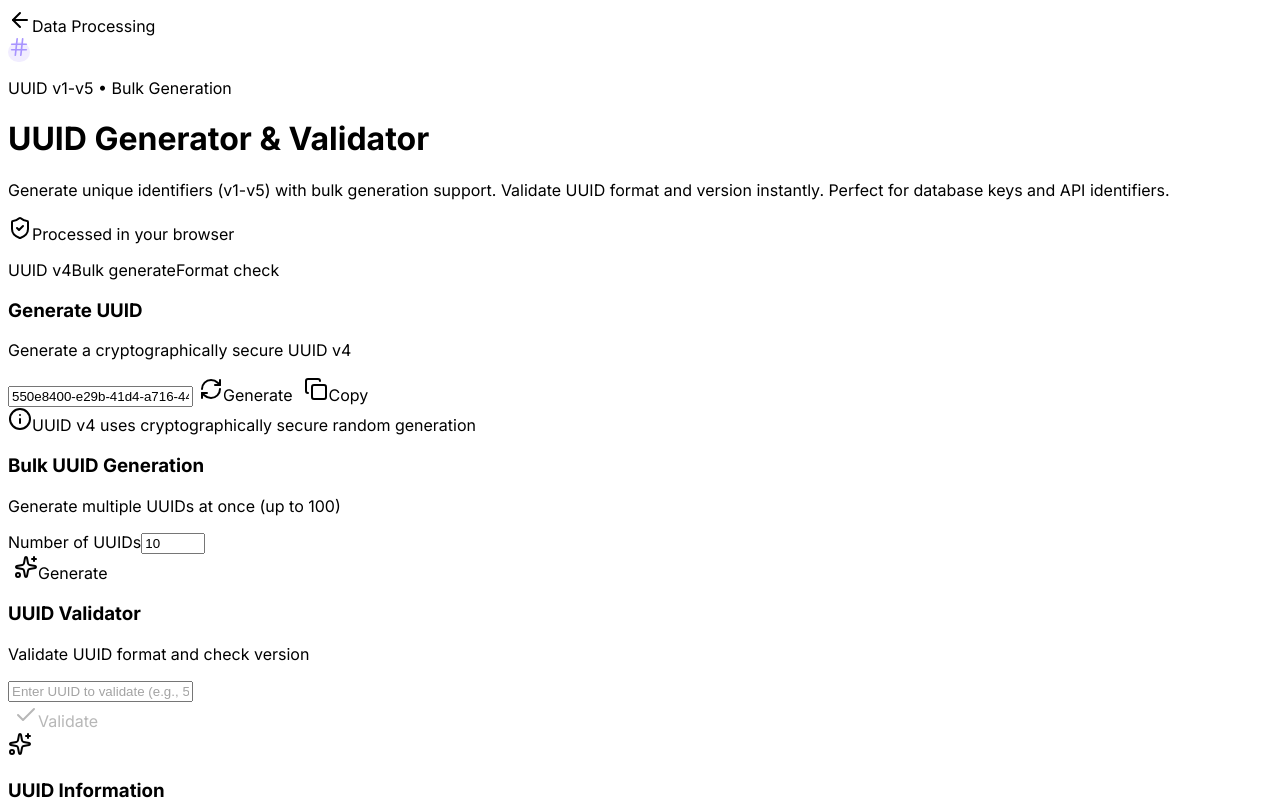
Test case: UUID Generator Page › UUID Validation › trims whitespace from UUID input before validation
The width and height of the screenshot is (1280, 800).
Replace the text in the field with placeholder "Enter UUID to validate" with "  550e8400-e29b-41d4-a716-446655440000  ": (100, 692) [8, 681, 193, 702]
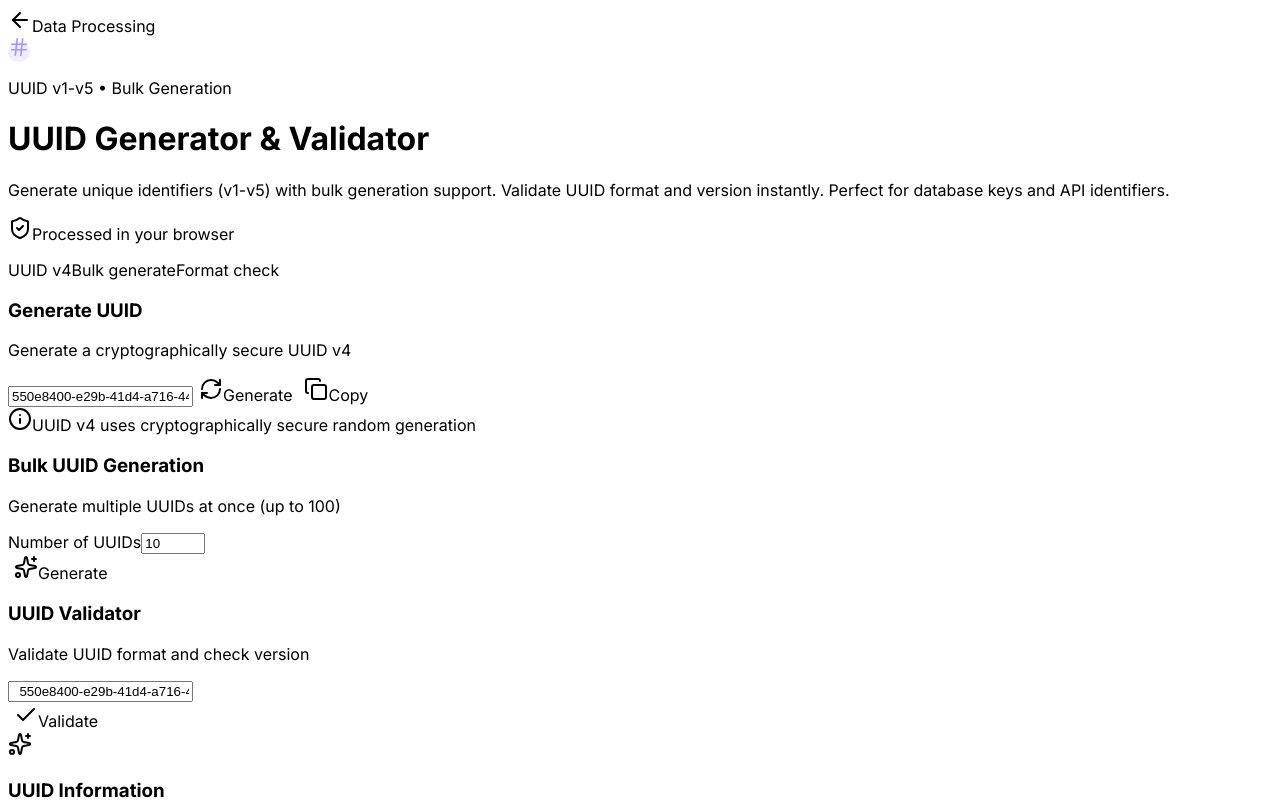
Click the button "Validate": click(56, 717) [8, 702, 104, 732]
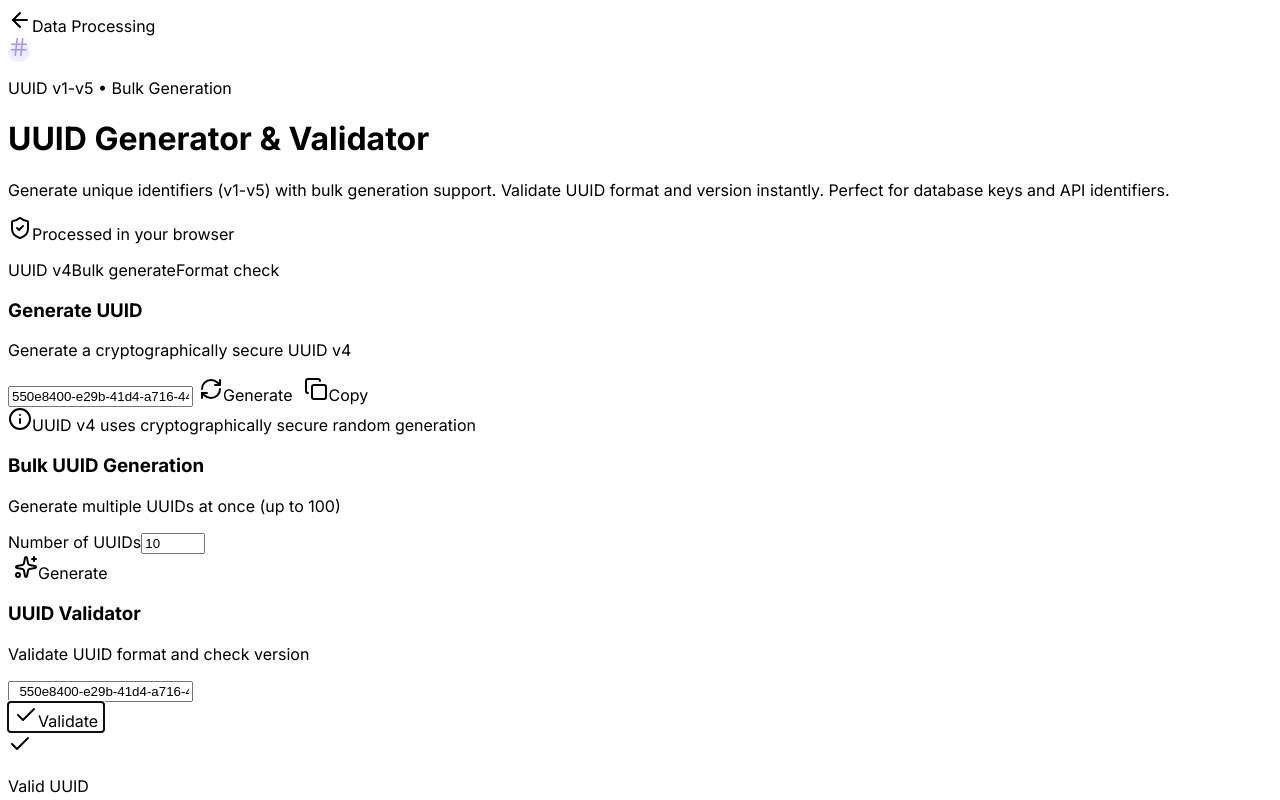
expect the text "Valid UUID" is shown: met, box [8, 776, 89, 796]
